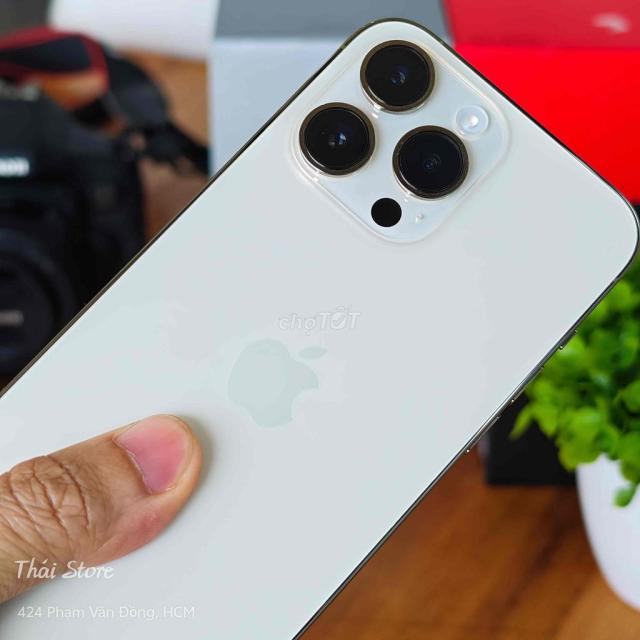gen_14: (0, 21, 639, 640)
